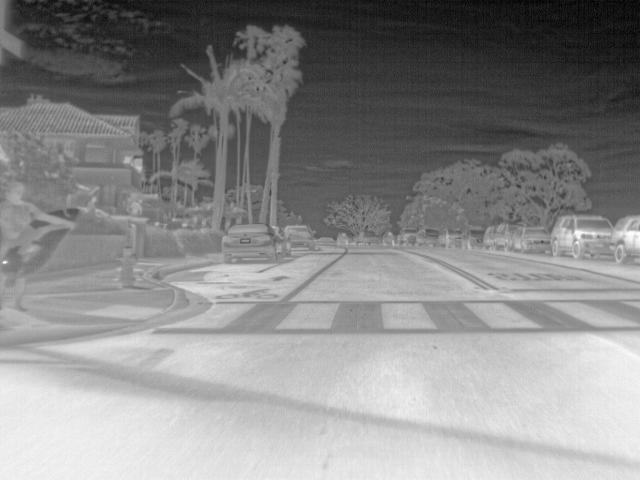car: (550, 212, 614, 260), (219, 222, 279, 264), (610, 213, 640, 265), (515, 225, 549, 254), (286, 223, 318, 252), (496, 223, 523, 252), (272, 225, 293, 260), (463, 228, 485, 250), (416, 227, 439, 246), (440, 228, 462, 247), (483, 225, 497, 251), (355, 230, 379, 244), (380, 227, 399, 244), (400, 227, 417, 246), (337, 230, 353, 244)
person: (1, 180, 77, 315)
